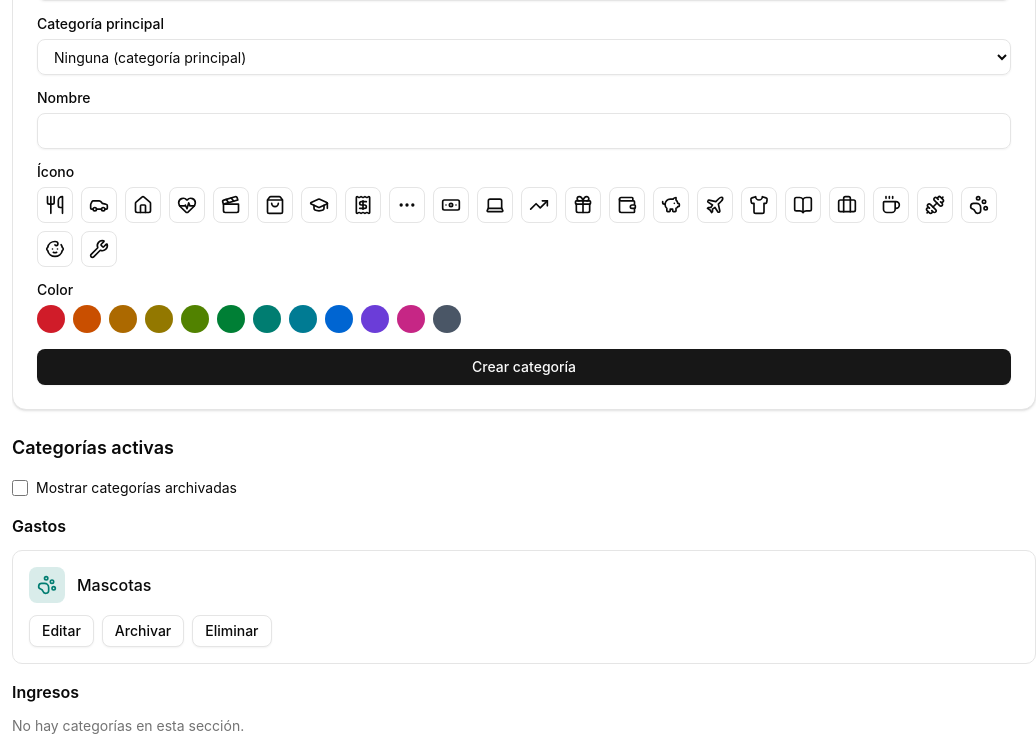
CategoriesContainer › does not delete when the confirmation is cancelled
(page scrolled)
Click the button named "Eliminar Mascotas" at coordinates (232, 631), box top-left (192, 615), bottom-right (272, 647)
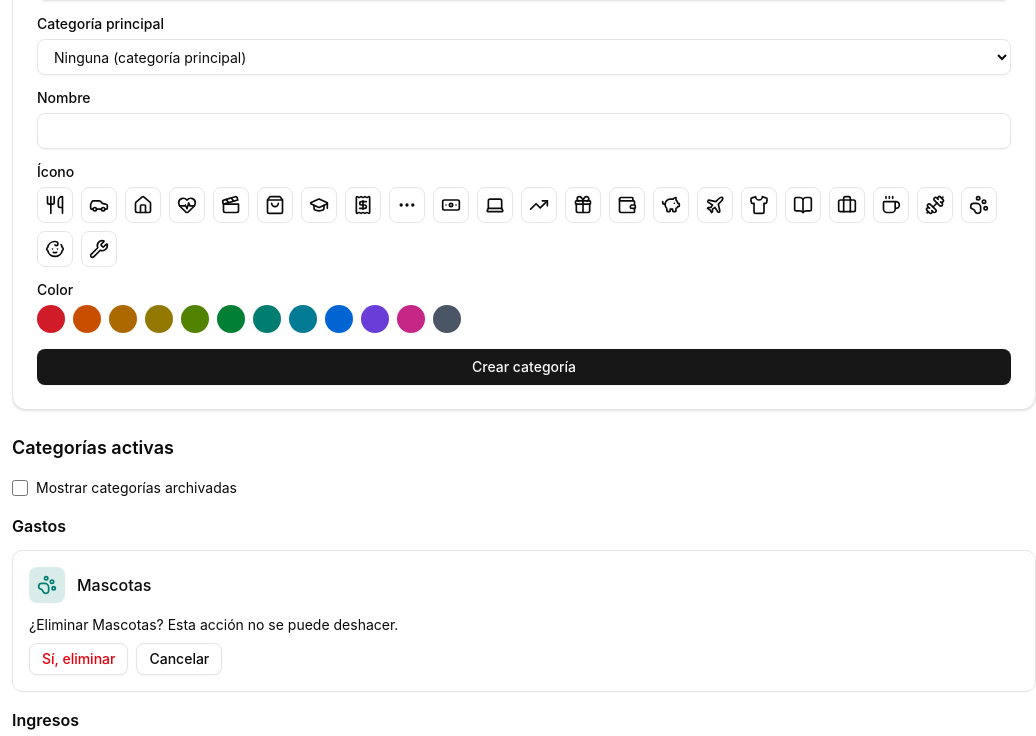
Click the button "Cancelar" at coordinates (179, 659), box top-left (136, 643), bottom-right (222, 675)
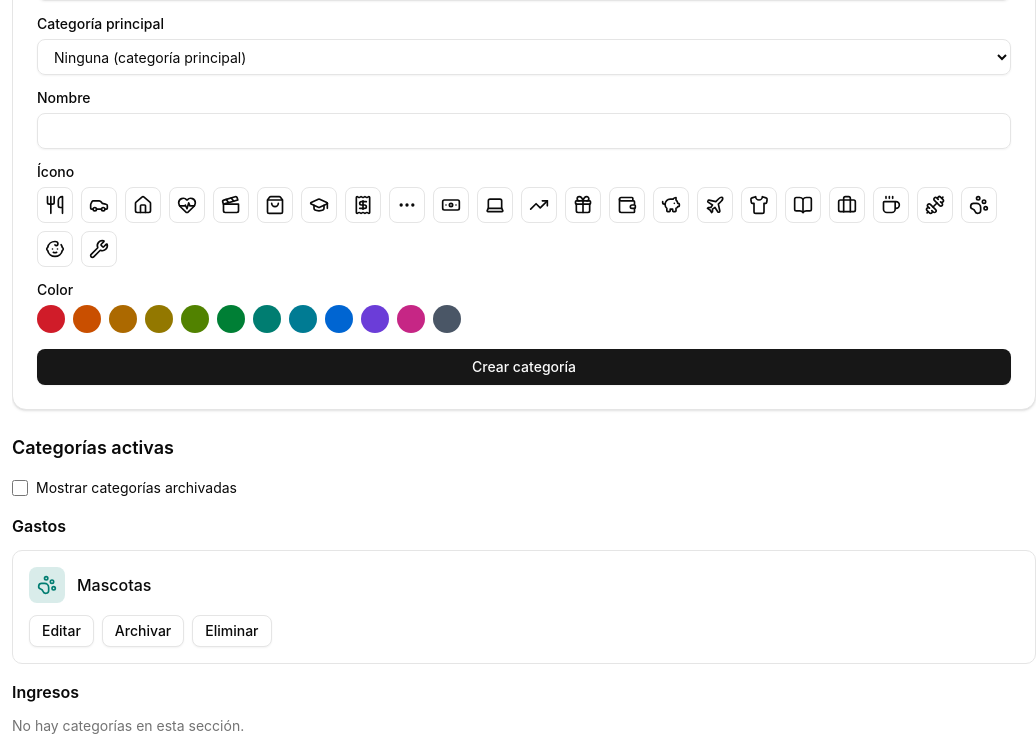
Result: the button "Sí, eliminar" is gone
